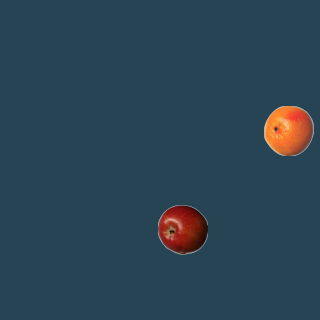Apple Braeburn: (157, 204, 207, 254)
Grapefruit Pink: (263, 105, 313, 155)
